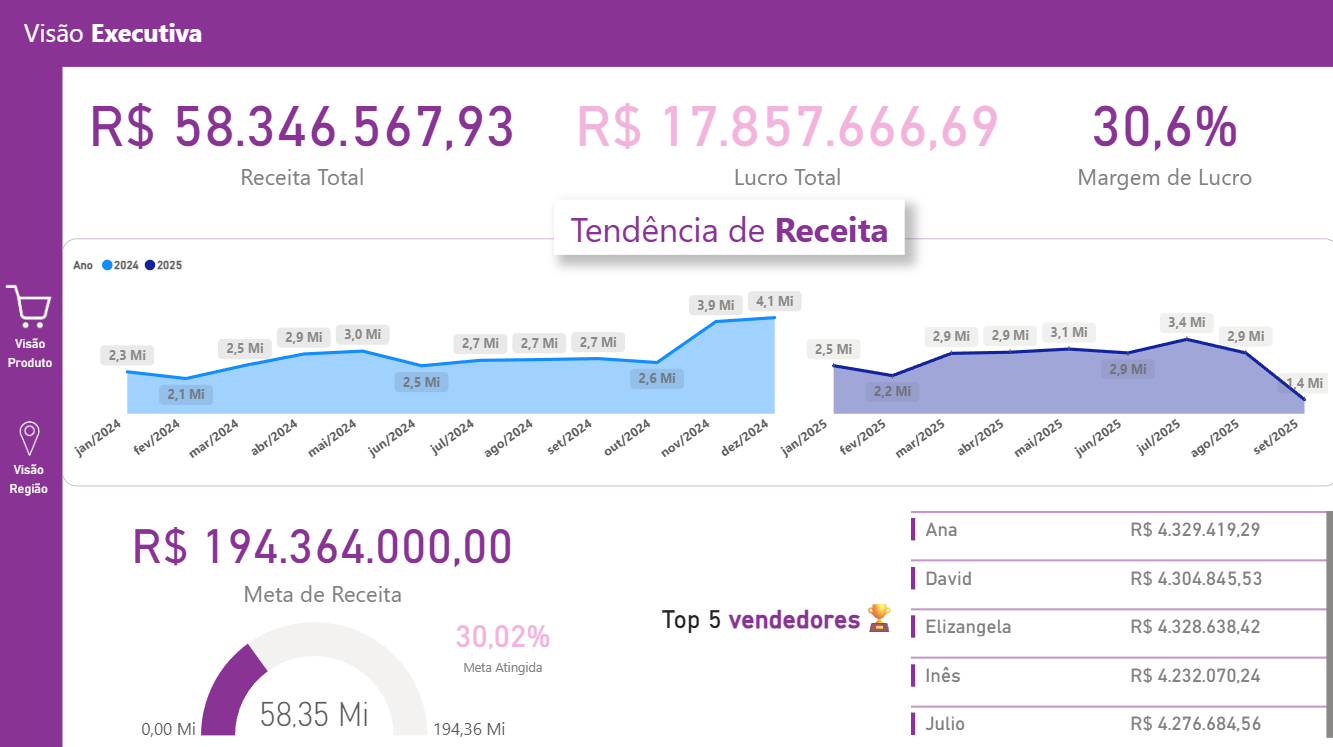

The dashboard page shown, as its layout file describes it:
{"tool":"powerbi","page":{"name":"Visão Executiva","canvas":[1280,720],"ordinal":0},"visuals":[{"type":"shape","box":[0,0,1280,63.7],"z":0,"group":"g1"},{"type":"shape","box":[0,56.7,63.3,663.3],"z":0},{"type":"lineChart","fields":{"Y":["Sum(Fato_Vendas.Receita)"],"Series":["Dim_Tempo.Ano"],"Category":["Dim_Tempo.MesAno"]},"box":[62.9,226.6,1217.1,236.2],"z":0,"group":"g2"},{"type":"image","box":[0,258.3,62.9,67.1],"z":0,"group":"g3"},{"type":"textbox","box":[21.4,8.3,196.7,48.5],"z":1000,"group":"g1"},{"type":"textbox","box":[531.7,190,334.3,52.3],"z":1000,"group":"g2"},{"type":"textbox","box":[0.7,311.5,62.1,57.1],"z":1000,"group":"g3"},{"type":"textbox","box":[0,430.9,62.1,57.1],"z":1000,"group":"g4"},{"type":"textbox","box":[628.6,564.3,250,48.6],"z":1000},{"type":"image","box":[0,368.3,63.3,101.7],"z":1500,"group":"g4"},{"type":"card","fields":{"Values":["Labels.Receita Total"]},"box":[78.6,64.3,425.7,125.7],"z":2000},{"type":"card","fields":{"Values":["Labels.Margem de Lucro"]},"box":[945.7,64.3,334.3,125.7],"z":3000},{"type":"card","fields":{"Values":["Labels.Lucro Total"]},"box":[532.9,64.3,441.4,125.7],"z":4000},{"type":"card","fields":{"Values":["Labels.Meta de Receita"]},"box":[89.5,471.9,441.4,115.7],"z":5000},{"type":"multiRowCard","fields":{"Values":["Dim_Vendedor.Vendedor","Labels.Receita Total"]},"box":[865.7,481.4,414.3,238.6],"z":6000},{"type":"group","id":"g1","title":"Grupo 1","box":[0,0,1280,63.7],"z":7000},{"type":"group","id":"g2","title":"Grupo 2","box":[62.9,190,1217.1,272.9],"z":8000},{"type":"gauge","fields":{"Y":["Medidas.receitaTotal"],"MaxValue":["Medidas.metaReceita"]},"box":[78.1,587.6,465.7,122.9],"z":9000},{"type":"card","fields":{"Values":["Labels.Meta Atingida"]},"box":[419.5,564.8,124.3,94.3],"z":10000},{"type":"group","id":"g3","title":"Grupo 3","box":[0,258.3,63.3,110],"z":11000},{"type":"group","id":"g4","title":"Grupo 3","box":[0,368.3,63.3,119.8],"z":12000}]}

Visuals, with their boxes in screenshot pixels (x1, y1, x2, y2), scaled from the page's 1280x720 canvas onto the 1333x747 screenshot:
shape: 0:0:1332:66
shape: 0:59:66:746
lineChart - Sum(Fato_Vendas.Receita) x Dim_Tempo.Ano: 66:235:1332:480
image: 0:268:66:338
textbox: 22:9:227:59
textbox: 554:197:902:251
textbox: 1:323:65:382
textbox: 0:447:65:506
textbox: 655:585:915:636
image: 0:382:66:488
card - Labels.Receita Total: 82:67:525:197
card - Labels.Margem de Lucro: 985:67:1332:197
card - Labels.Lucro Total: 555:67:1015:197
card - Labels.Meta de Receita: 93:490:553:610
multiRowCard - Dim_Vendedor.Vendedor x Labels.Receita Total: 902:499:1332:746
"Grupo 1" group: 0:0:1332:66
"Grupo 2" group: 66:197:1332:480
gauge - Medidas.receitaTotal x Medidas.metaReceita: 81:610:566:737
card - Labels.Meta Atingida: 437:586:566:684
"Grupo 3" group: 0:268:66:382
"Grupo 3" group: 0:382:66:506
